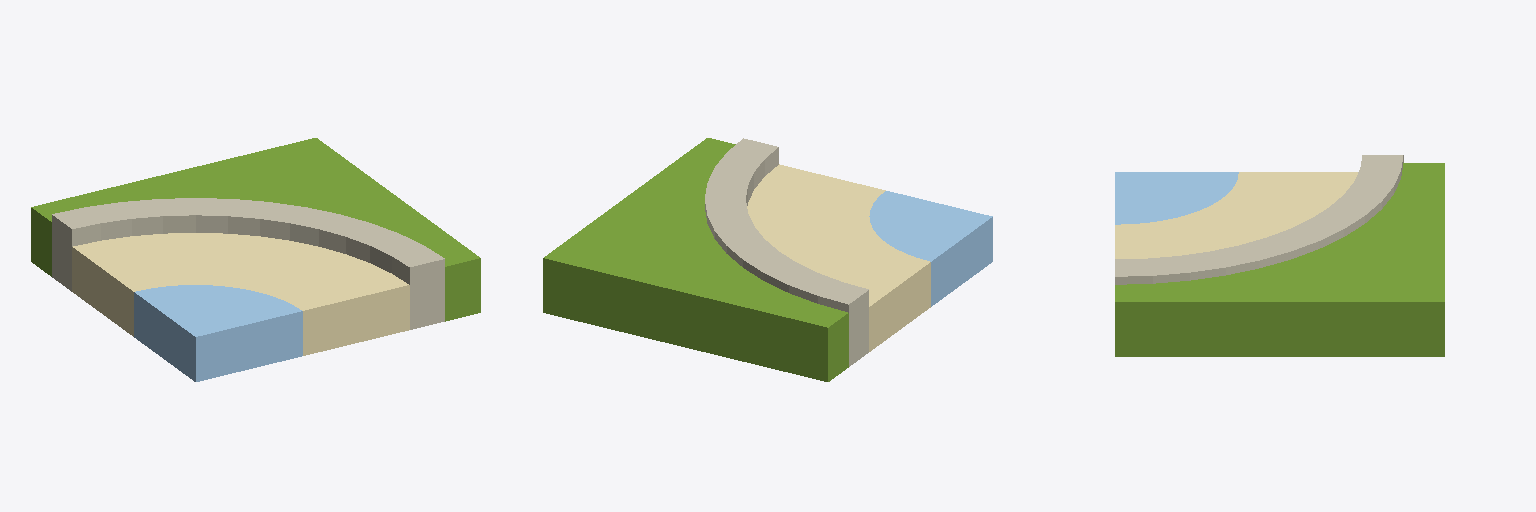
Rendered from tile206.obj.
3 views of the same model, side by side, from view 1: azimuth 30°, elevation 25°; view 2: azimuth 150°, elevation 25°; view 3: azimuth 270°, elevation 25° (orthographic).
Parts seen in each view (by area): view 1: tile206; view 2: tile206; view 3: tile206.
Part boxes in pixels (x1,y1,x2,y2): tile206: (31,138,480,381); tile206: (543,138,992,381); tile206: (1115,155,1444,356).
Size of the model in its own units: 1 by 0.21 by 1.